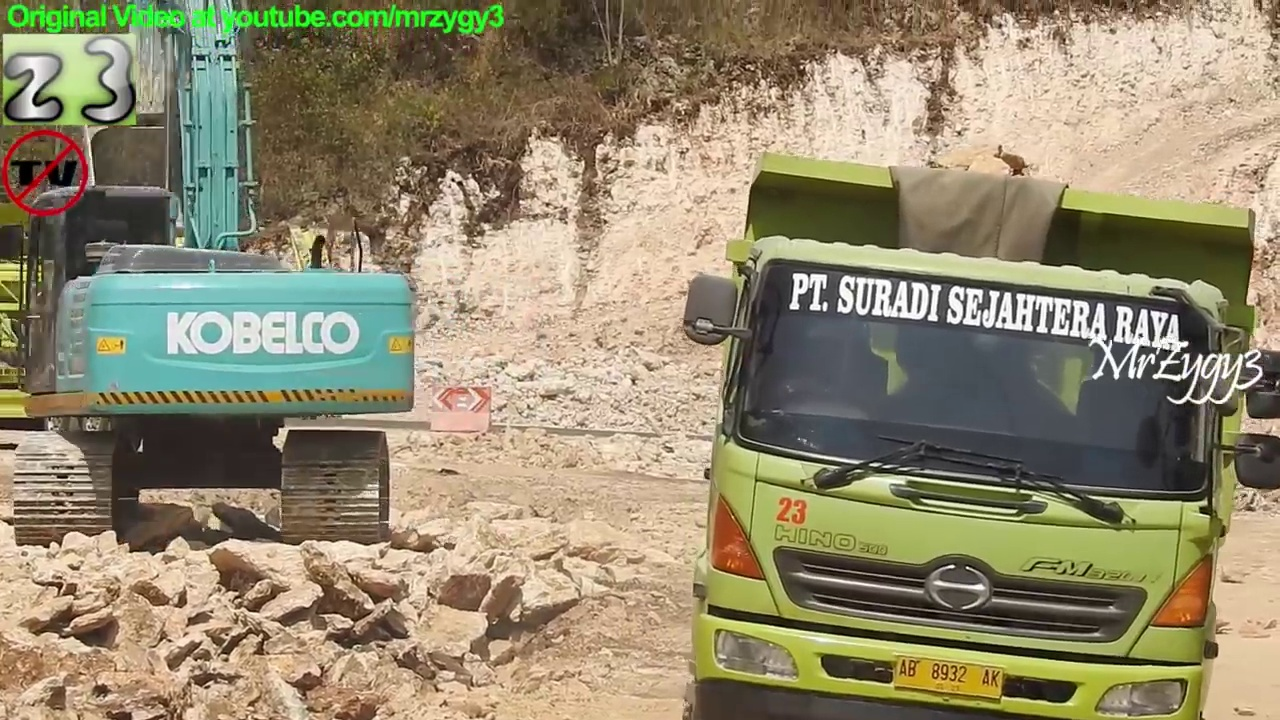excavator: (2, 1, 419, 550)
truck: (681, 147, 1280, 720), (1, 191, 368, 441)
